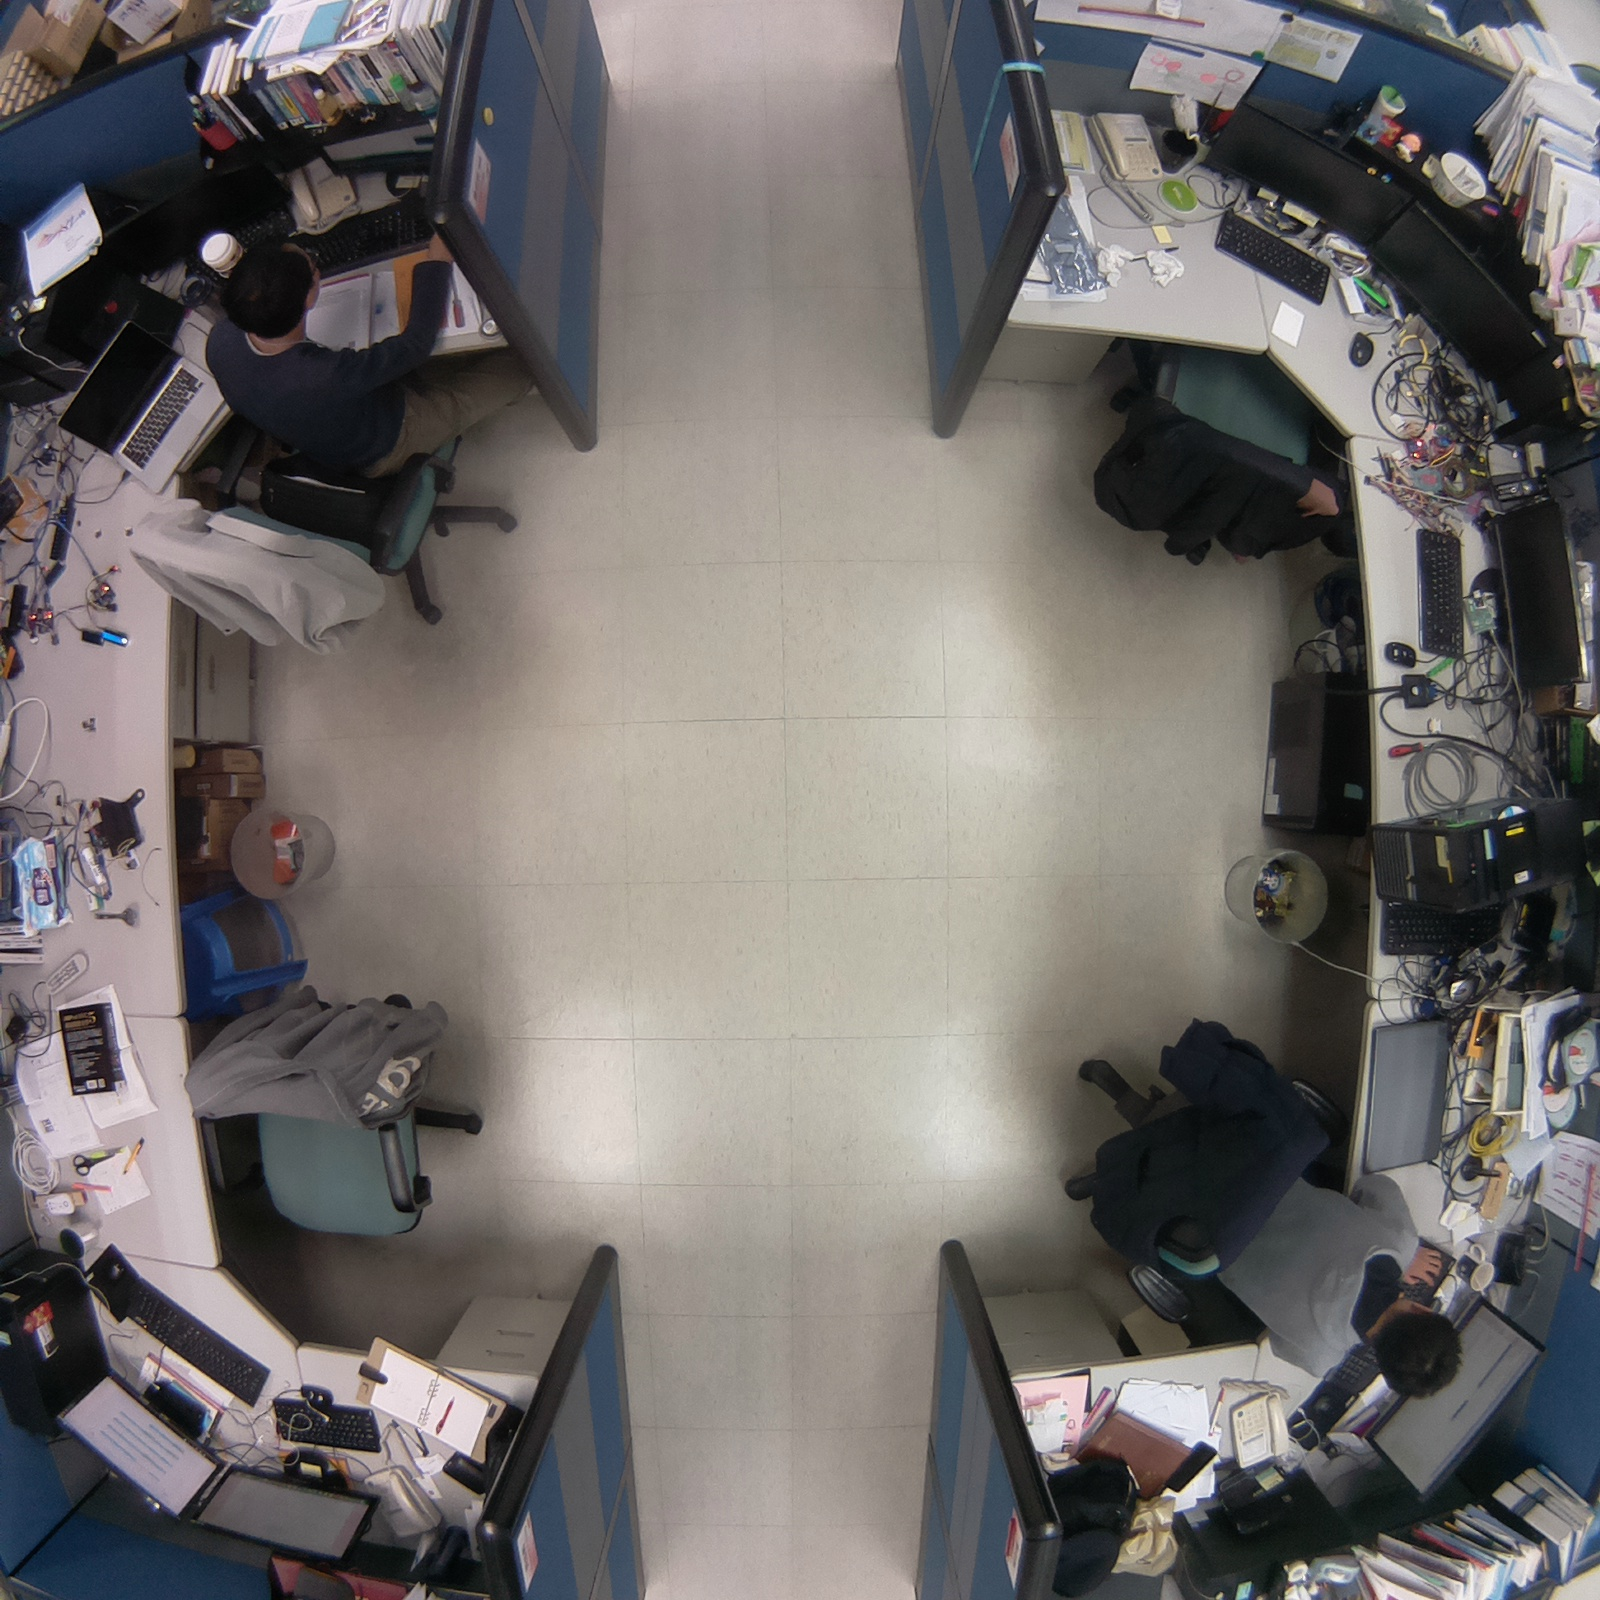chair: (170, 963, 494, 1263), (1086, 311, 1358, 575)
head: (1364, 1297, 1468, 1403), (212, 238, 326, 334)
sitting: (109, 222, 553, 665), (1045, 1001, 1472, 1406)
